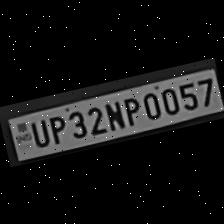0: (137, 86, 163, 122), (156, 82, 181, 116)
2: (82, 101, 106, 135)
3: (61, 105, 88, 140)
5: (174, 78, 200, 112)
7: (193, 74, 218, 108)
N: (100, 97, 124, 131)
P: (117, 92, 143, 128), (42, 111, 68, 145)
U: (25, 116, 50, 148)
